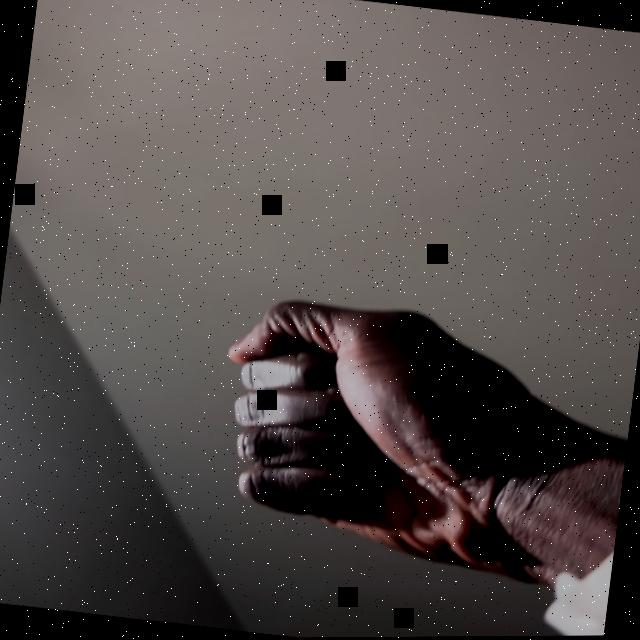Rock: (203, 285, 594, 588)
